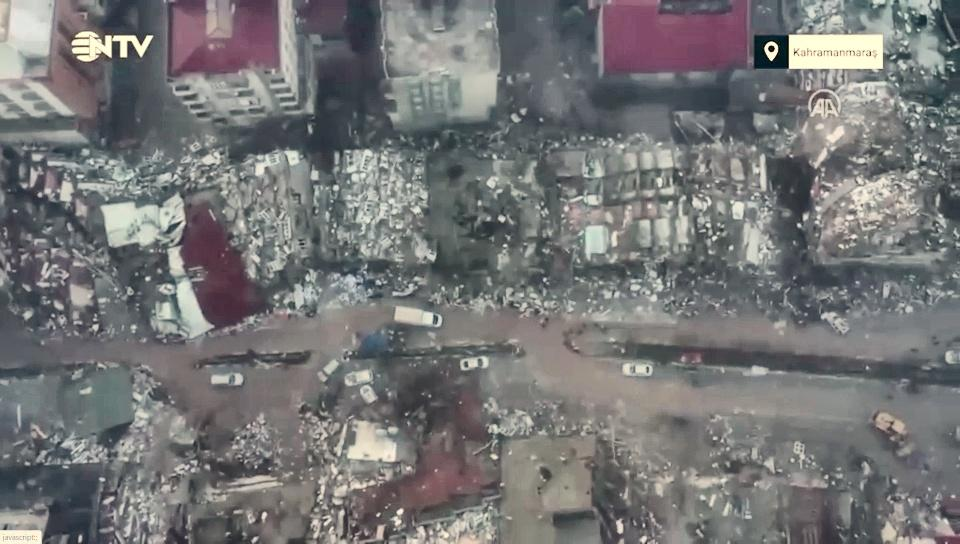kapali: (0, 277, 350, 368), (287, 353, 536, 447), (0, 367, 212, 457)
